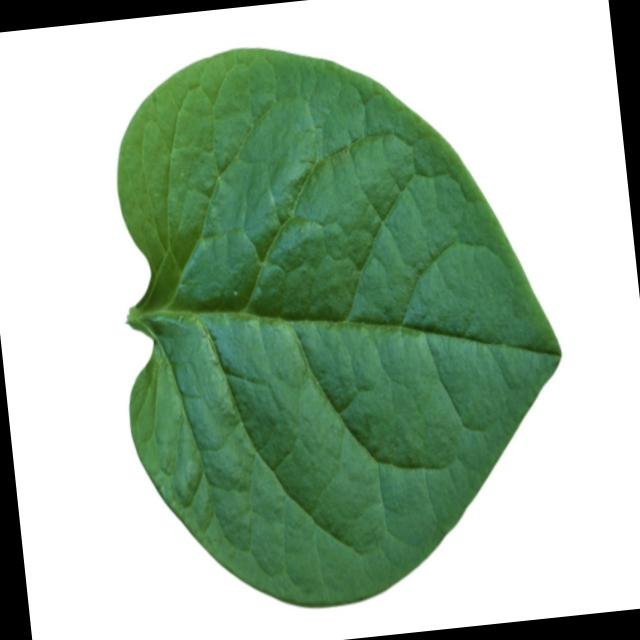Medicinal-Basale: (91, 16, 585, 624)
